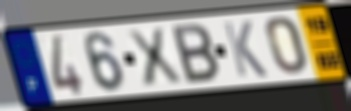0: (263, 15, 311, 77)
4: (50, 32, 86, 98)
6: (81, 28, 128, 95)
B: (169, 22, 222, 87)
K: (220, 19, 270, 80)
X: (123, 26, 186, 89)
